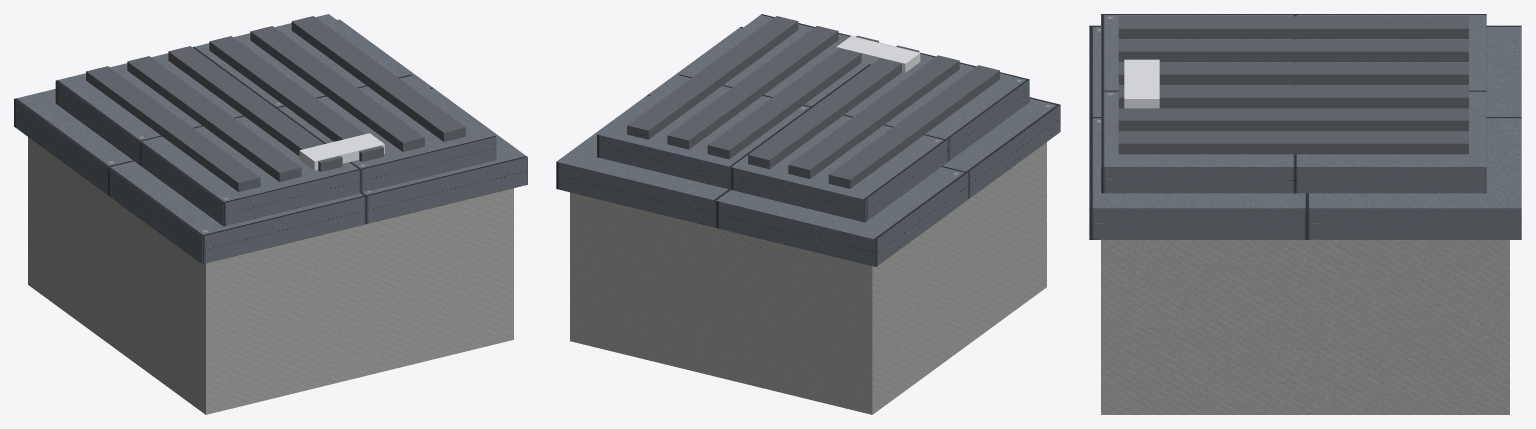
File: fire-and-emergency-services-fire-hydrant-09cb0c64.glb
3 renders of one model, left to right at view 1: azimuth 30°, elevation 25°; view 2: azimuth 150°, elevation 25°; view 3: azimuth 270°, elevation 25°, orthographic. The views are drawn at different scales.
Parts seen in each view (by area): view 1: fire-hydrant, cover/plastic, cover/tread, cover/chrome; view 2: fire-hydrant, cover/plastic, cover/tread, cover/chrome; view 3: fire-hydrant, cover/plastic, cover/tread, cover/chrome.
Boxes of the visible parts, left/top/right/bottom form: fire-hydrant: left=14, top=19, right=527, bottom=414; cover/plastic: left=86, top=16, right=465, bottom=192; cover/tread: left=55, top=14, right=496, bottom=226; cover/chrome: left=299, top=133, right=384, bottom=170; fire-hydrant: left=556, top=26, right=1060, bottom=414; cover/plastic: left=627, top=16, right=999, bottom=188; cover/tread: left=597, top=14, right=1029, bottom=222; cover/chrome: left=836, top=36, right=920, bottom=72; fire-hydrant: left=1089, top=25, right=1521, bottom=414; cover/plastic: left=1118, top=16, right=1468, bottom=154; cover/tread: left=1101, top=14, right=1486, bottom=193; cover/chrome: left=1124, top=59, right=1159, bottom=108.
Size of the model in its own units: 0.74 by 0.4712 by 0.74.
5 materials, 2 textured.
